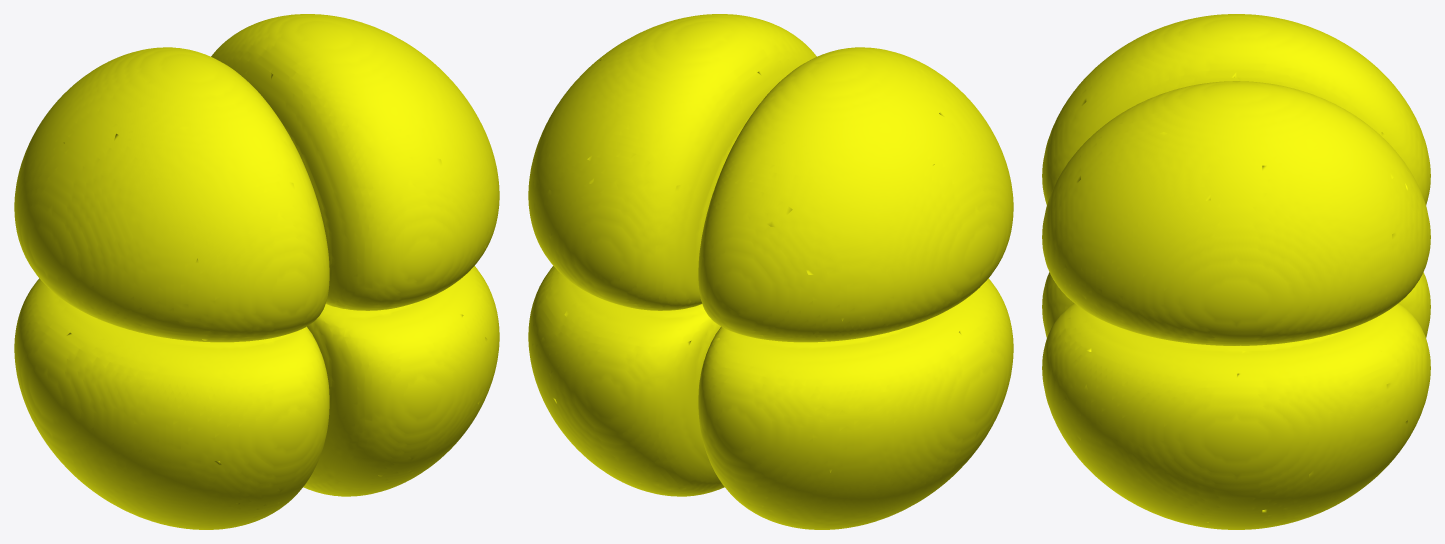
The model's file is orb_n=5_ l=2 _m=1.fbx.
3 views of the same model, side by side, from view 1: azimuth 30°, elevation 25°; view 2: azimuth 150°, elevation 25°; view 3: azimuth 270°, elevation 25° (orthographic). The views are drawn at different scales.
Parts seen in each view (by area): view 1: orb_n=5_ l=2 _m=1; view 2: orb_n=5_ l=2 _m=1; view 3: orb_n=5_ l=2 _m=1.
Boxes of the visible parts, box(x1,y1,x2,y2) form: orb_n=5_ l=2 _m=1: box(14, 14, 499, 529); orb_n=5_ l=2 _m=1: box(528, 14, 1013, 529); orb_n=5_ l=2 _m=1: box(1042, 14, 1430, 529).
Size of the model in its own units: 13370 by 13370 by 11002.
